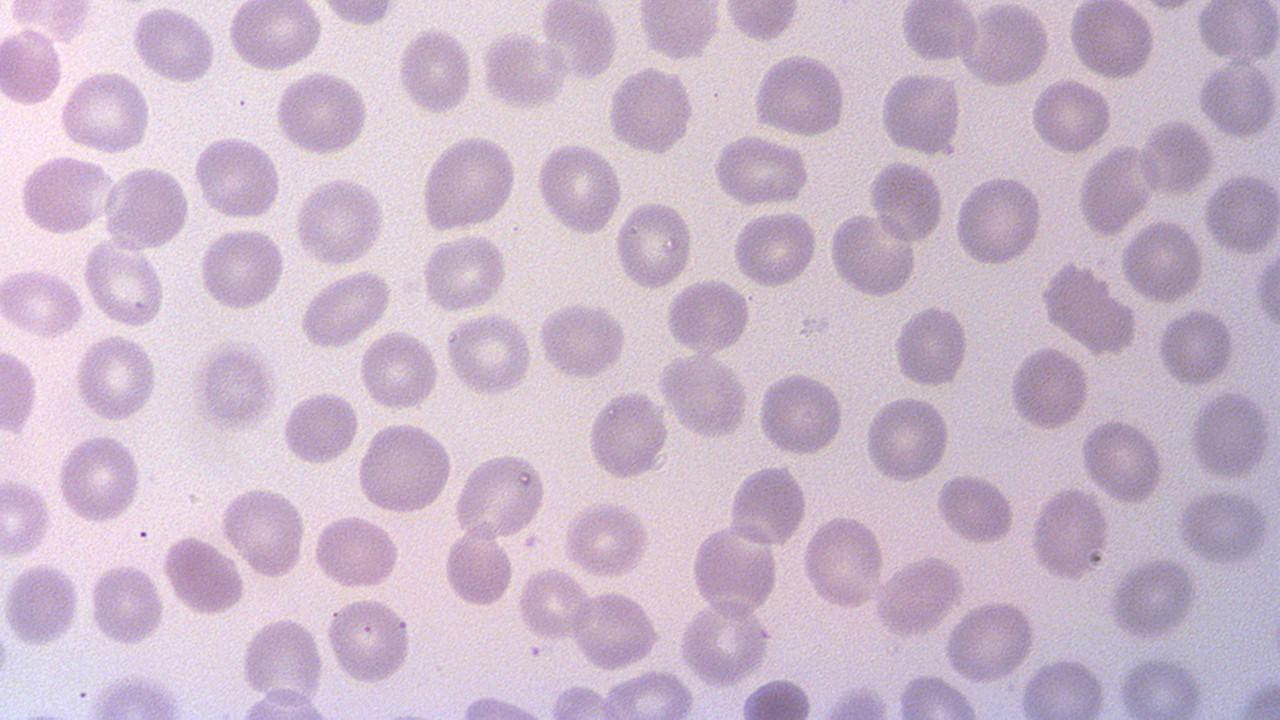RBC: (416, 132, 520, 234), (353, 420, 454, 516), (688, 520, 780, 620), (534, 138, 624, 238), (292, 174, 387, 267), (952, 172, 1044, 268), (750, 50, 850, 138), (190, 337, 279, 435), (674, 596, 770, 686), (451, 452, 547, 542), (57, 67, 154, 156), (658, 349, 750, 442), (940, 597, 1037, 685), (16, 152, 115, 238), (800, 512, 885, 612), (604, 64, 696, 156), (956, 0, 1050, 90), (218, 483, 307, 578), (55, 430, 143, 526), (272, 70, 370, 156), (1187, 388, 1275, 483), (239, 614, 326, 710), (324, 594, 414, 686), (825, 209, 918, 298), (586, 386, 670, 484), (100, 162, 191, 252), (73, 331, 159, 426), (1170, 488, 1274, 566), (862, 394, 952, 484), (874, 552, 966, 640), (297, 266, 394, 349), (197, 225, 287, 314), (1079, 415, 1167, 506), (81, 235, 166, 329), (192, 133, 282, 221), (756, 368, 844, 458), (1028, 486, 1110, 582), (1107, 558, 1201, 641), (444, 310, 534, 396), (534, 299, 629, 380), (478, 26, 566, 113), (570, 587, 660, 672), (561, 497, 653, 579), (614, 198, 694, 292), (1008, 342, 1090, 433), (710, 133, 812, 206), (1119, 217, 1203, 305), (730, 206, 818, 290), (879, 68, 962, 157), (728, 460, 809, 551), (2, 558, 81, 649), (420, 232, 508, 313), (397, 25, 475, 116), (310, 512, 402, 589), (161, 532, 245, 616), (1067, 0, 1155, 80), (663, 276, 753, 354), (1075, 146, 1151, 238), (1028, 75, 1114, 156), (128, 5, 215, 85), (226, 1, 324, 72), (892, 301, 970, 390), (539, 0, 621, 84), (358, 328, 440, 412), (1155, 304, 1235, 390), (867, 156, 945, 244), (1196, 57, 1278, 140), (1201, 170, 1279, 256), (88, 560, 164, 648), (1136, 115, 1216, 198), (934, 470, 1018, 548), (0, 264, 85, 339), (516, 564, 594, 644), (441, 524, 514, 609), (282, 388, 360, 467), (1115, 654, 1207, 718), (1017, 654, 1109, 716), (635, 0, 723, 63), (1194, 0, 1278, 64), (0, 24, 63, 107), (898, 0, 979, 64), (1, 474, 53, 560), (601, 669, 694, 717), (896, 672, 979, 719), (0, 346, 41, 439), (720, 1, 802, 44), (738, 675, 816, 719), (235, 684, 333, 718), (1252, 244, 1280, 334), (313, 0, 401, 28)
